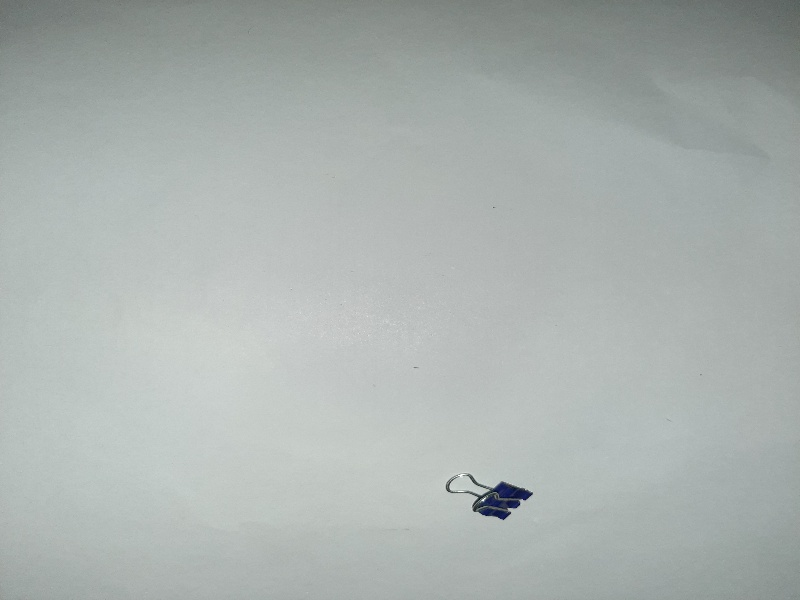Small Paperclip: (443, 466, 536, 531)
